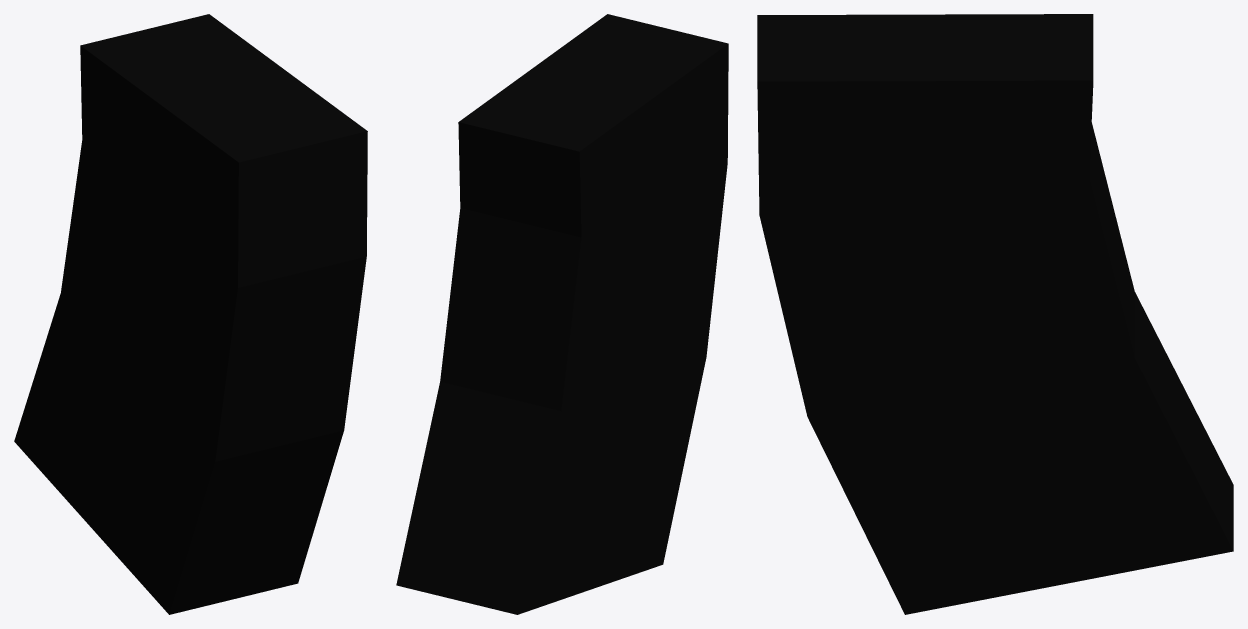
The model's file is AR45Mag.fbx.
3 renders of one model, left to right at view 1: azimuth 30°, elevation 25°; view 2: azimuth 150°, elevation 25°; view 3: azimuth 270°, elevation 25°, orthographic. The views are drawn at different scales.
Parts seen in each view (by area): view 1: AR45_Mag; view 2: AR45_Mag; view 3: AR45_Mag.
Part boxes in pixels (left/top/right/bottom): AR45_Mag: left=14, top=14, right=367, bottom=614; AR45_Mag: left=396, top=14, right=728, bottom=614; AR45_Mag: left=757, top=14, right=1233, bottom=614.
Size of the model in its own units: 119 by 445 by 360.
Materials: 1 (1 with a texture image).
